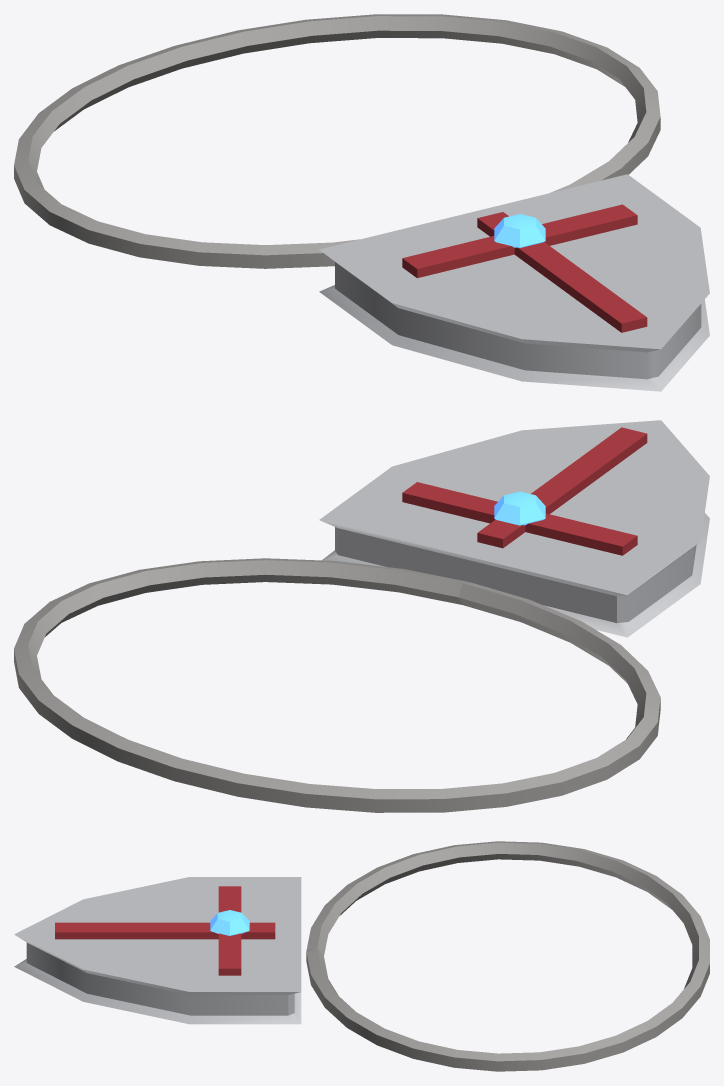
Rendered from bulwark_locket.glb.
3 views of the same model, one above another, from view 1: azimuth 30°, elevation 25°; view 2: azimuth 150°, elevation 25°; view 3: azimuth 270°, elevation 25° (orthographic). The views are drawn at different scales.
Visible parts, largest first — view 1: bulwark_locket; view 2: bulwark_locket; view 3: bulwark_locket.
Boxes of the visible parts, box(x1,y1,x2,y2) form: bulwark_locket: box(14, 14, 709, 391); bulwark_locket: box(14, 420, 709, 812); bulwark_locket: box(14, 841, 709, 1071).
Size of the model in its own units: 0.0803 by 0.00915 by 0.1073.
